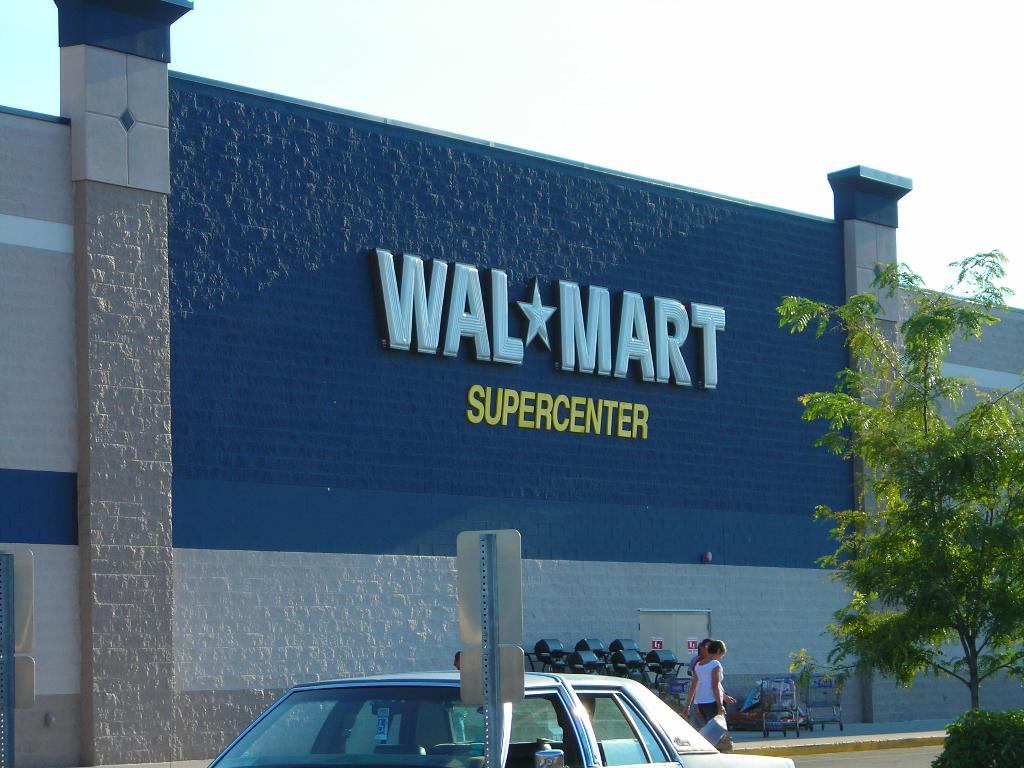Car: (204, 669, 796, 767)
